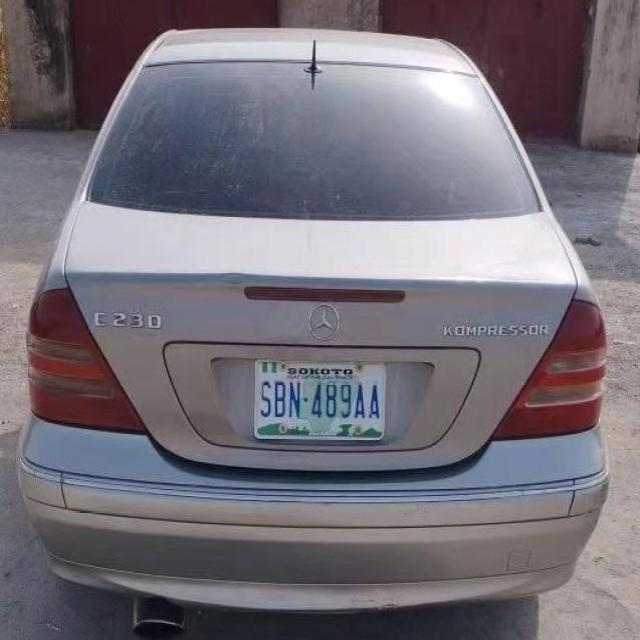Nigerian License Plate - vdataset benjamin-daria: (252, 350, 390, 445)
